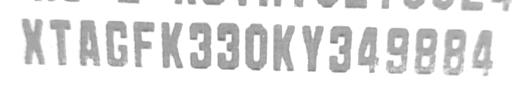letter: (18, 14, 50, 65), (382, 21, 412, 75), (440, 22, 470, 76), (129, 18, 157, 72), (214, 18, 242, 72), (326, 20, 354, 74), (354, 20, 382, 74), (412, 22, 440, 76), (469, 23, 497, 77), (102, 18, 132, 68), (74, 16, 102, 68), (186, 19, 214, 71), (297, 20, 325, 72), (269, 20, 297, 72), (48, 17, 78, 64), (158, 19, 186, 69), (243, 19, 269, 71)
